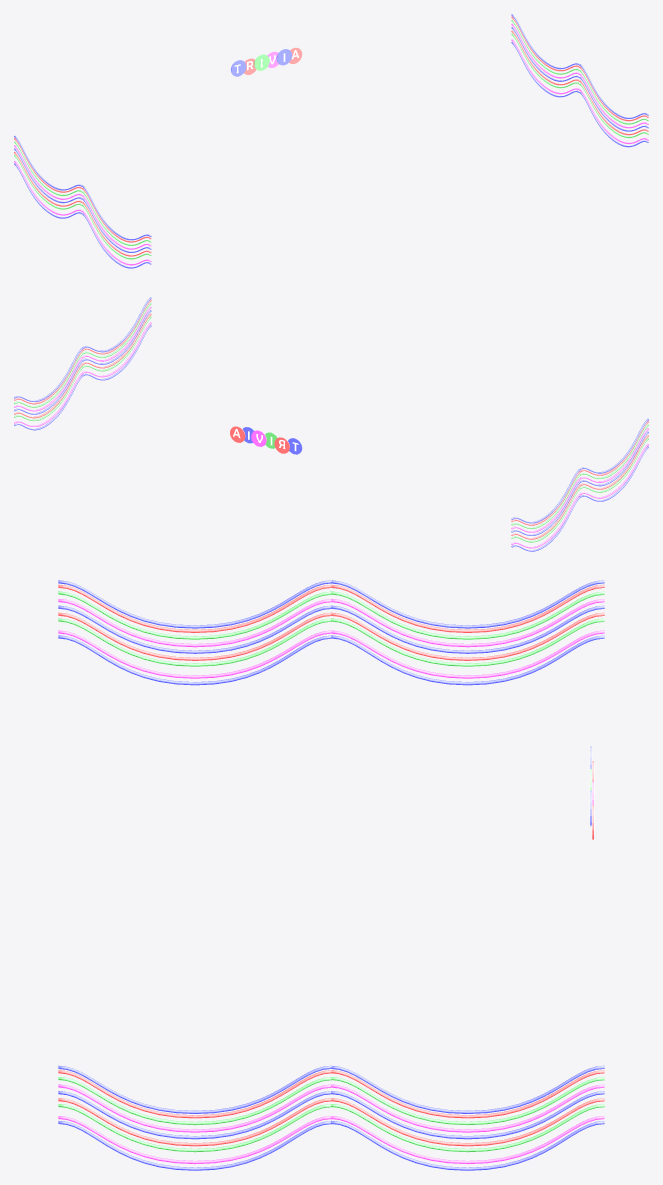
Rendered from Trivia_Sign.glb.
3 views of the same model, one above another, from view 1: azimuth 30°, elevation 25°; view 2: azimuth 150°, elevation 25°; view 3: azimuth 270°, elevation 25° (orthographic). The views are drawn at different scales.
Visible parts, largest first — view 1: Cable Lights, Trivia Sign Components.014; view 2: Cable Lights, Trivia Sign Components.014; view 3: Cable Lights.
Boxes of the visible parts, <box> form: Cable Lights: <box>14,14,648,268</box>; Trivia Sign Components.014: <box>231,47,302,76</box>; Cable Lights: <box>14,297,648,551</box>; Trivia Sign Components.014: <box>230,426,302,454</box>; Cable Lights: <box>58,580,604,1170</box>.
Bounding box in the file's own units: 23.4 × 3.42 × 11.1.
